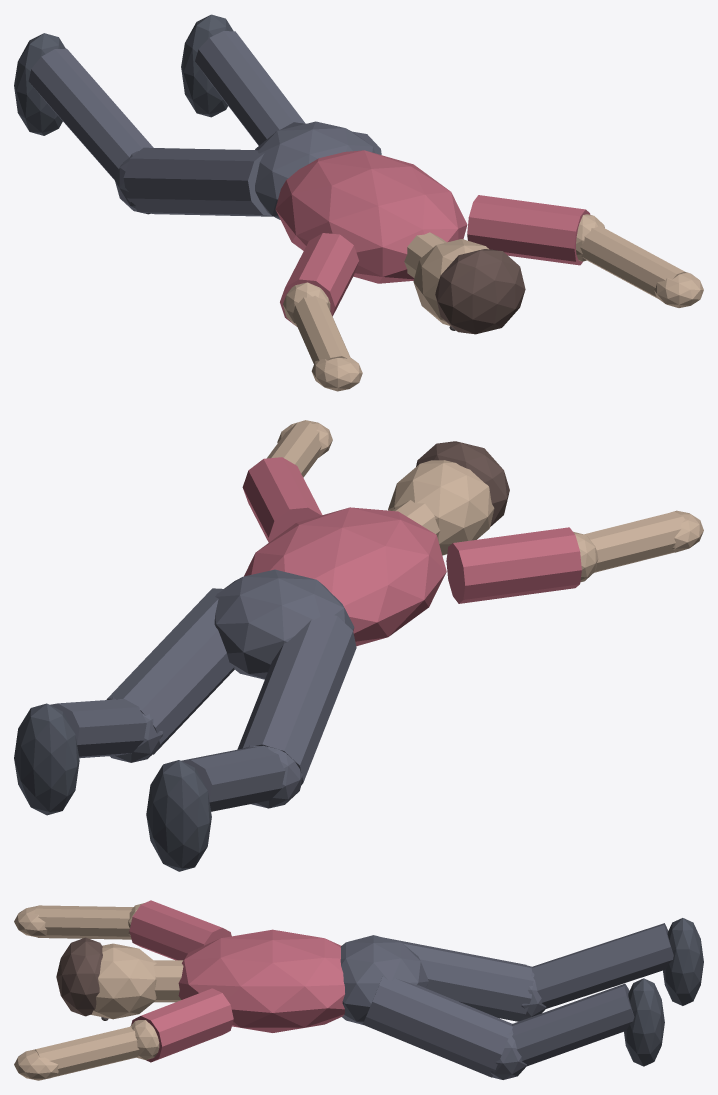
3 renders of one model, top to bottom at view 1: azimuth 30°, elevation 25°; view 2: azimuth 150°, elevation 25°; view 3: azimuth 270°, elevation 25°, orthographic. The views are drawn at different scales.
Parts seen in each view (by area): view 1: world; view 2: world; view 3: world.
Part boxes in pixels (bbox=[...]): world: bbox=[14, 14, 703, 391]; world: bbox=[14, 420, 703, 871]; world: bbox=[14, 900, 703, 1080].
Bounding box in the file's own units: 1.17 × 0.38 × 2.12.
